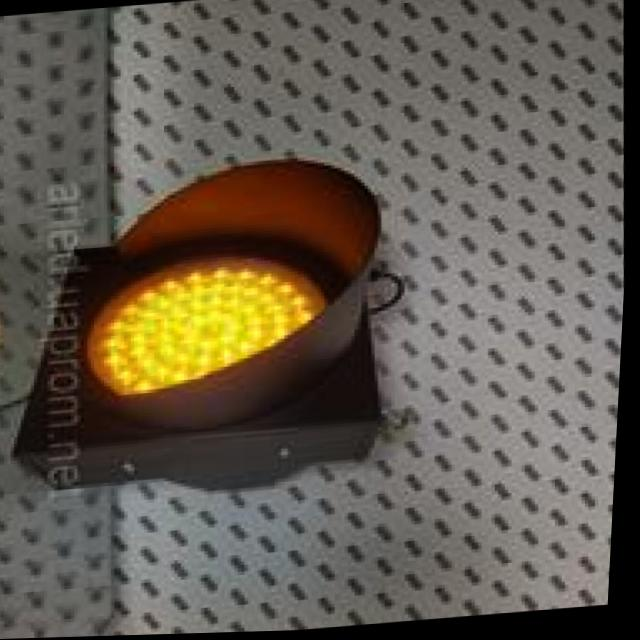yellow_light: (38, 171, 407, 500)
